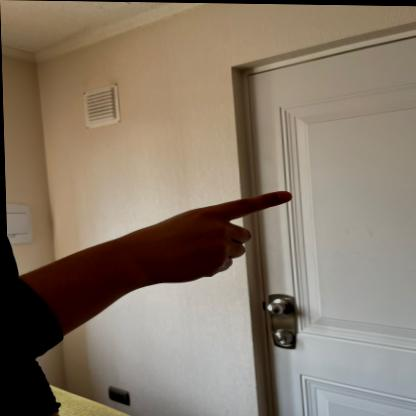Q: (109, 170, 300, 303)
